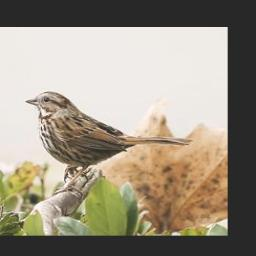Sparrow: (26, 90, 193, 196)
